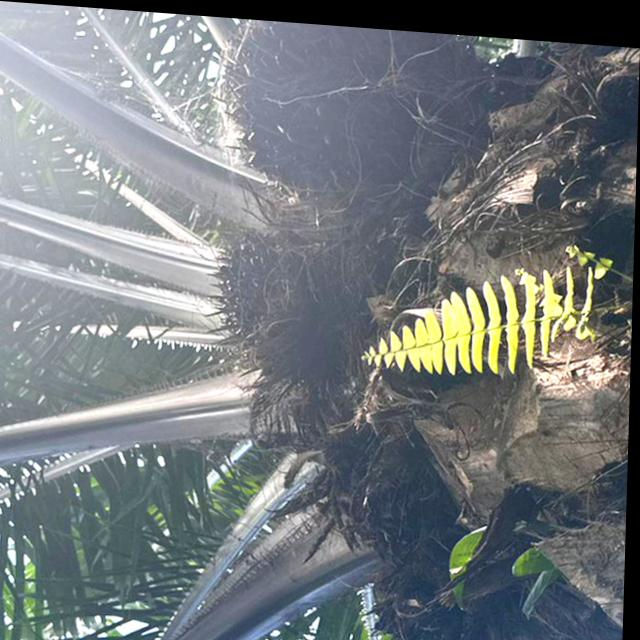unripe: (201, 12, 499, 218), (189, 214, 365, 392)
